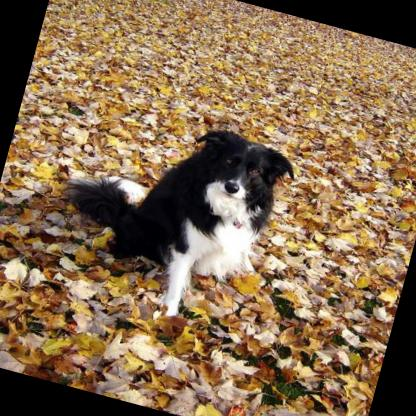collie: (31, 88, 302, 336)
